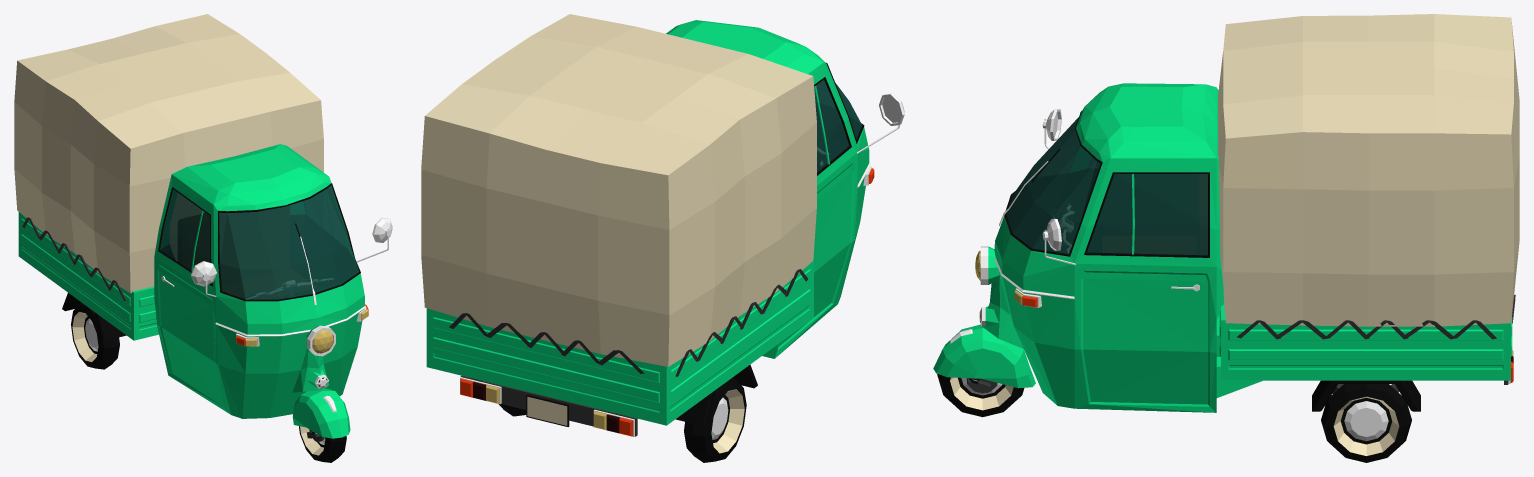
File: 3Wheeler_05.FBX
3 renders of one model, left to right at view 1: azimuth 30°, elevation 25°; view 2: azimuth 150°, elevation 25°; view 3: azimuth 270°, elevation 25°, orthographic. The views are drawn at different scales.
Visible parts, largest first — view 1: tarpaulin, 3Wheeler_05, interior, mudguard, wheel_b-r, wheel_f, headLights, mirror_r, lights, mirror_l; view 2: tarpaulin, 3Wheeler_05, wheel_b-r, interior, licensePlate_b, mirror_r; view 3: tarpaulin, 3Wheeler_05, interior, wheel_b-l, mudguard, wheel_f, lights.
Part boxes in pixels (left/top/right/bottom): tarpaulin: left=14, top=14, right=323, bottom=300; 3Wheeler_05: left=18, top=144, right=365, bottom=418; interior: left=160, top=185, right=358, bottom=299; mudguard: left=292, top=388, right=350, bottom=438; wheel_b-r: left=71, top=303, right=119, bottom=369; wheel_f: left=299, top=426, right=346, bottom=462; headLights: left=245, top=309, right=368, bottom=353; mirror_r: left=191, top=261, right=216, bottom=297; lights: left=236, top=307, right=366, bottom=356; mirror_l: left=356, top=217, right=392, bottom=262; tarpaulin: left=421, top=14, right=816, bottom=376; 3Wheeler_05: left=426, top=20, right=870, bottom=436; wheel_b-r: left=684, top=377, right=746, bottom=462; interior: left=815, top=80, right=861, bottom=172; licensePlate_b: left=526, top=395, right=569, bottom=426; mirror_r: left=857, top=93, right=904, bottom=153; tarpaulin: left=1218, top=14, right=1519, bottom=339; 3Wheeler_05: left=979, top=83, right=1512, bottom=412; interior: left=1006, top=117, right=1207, bottom=254; wheel_b-l: left=1321, top=384, right=1411, bottom=462; mudguard: left=933, top=324, right=1035, bottom=388; wheel_f: left=937, top=374, right=1024, bottom=417; lights: left=980, top=246, right=1510, bottom=383.
Bounding box in the file's own units: 13.58 × 17.69 × 27.06.
